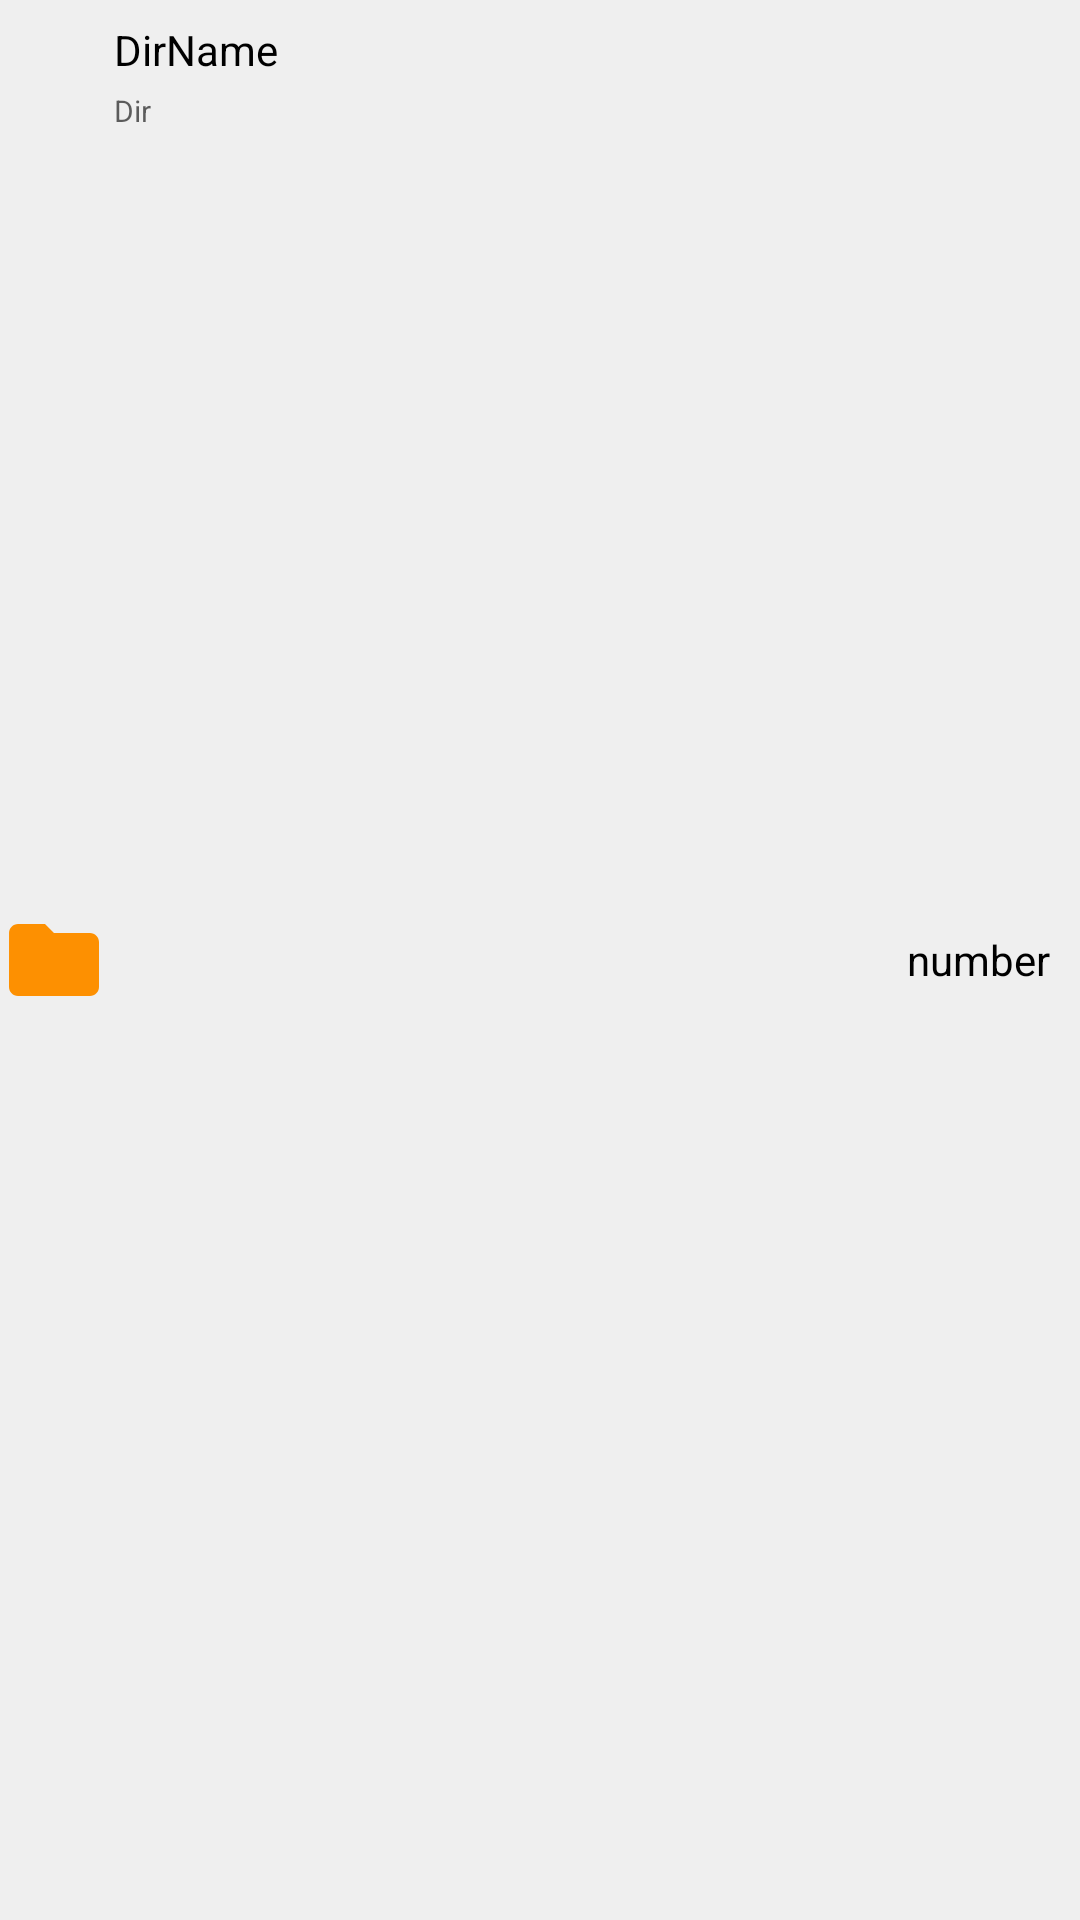

Named icons in this screenshot (1080px x 1920px) and their centers, point (x, y):
folder: point (54, 960)
